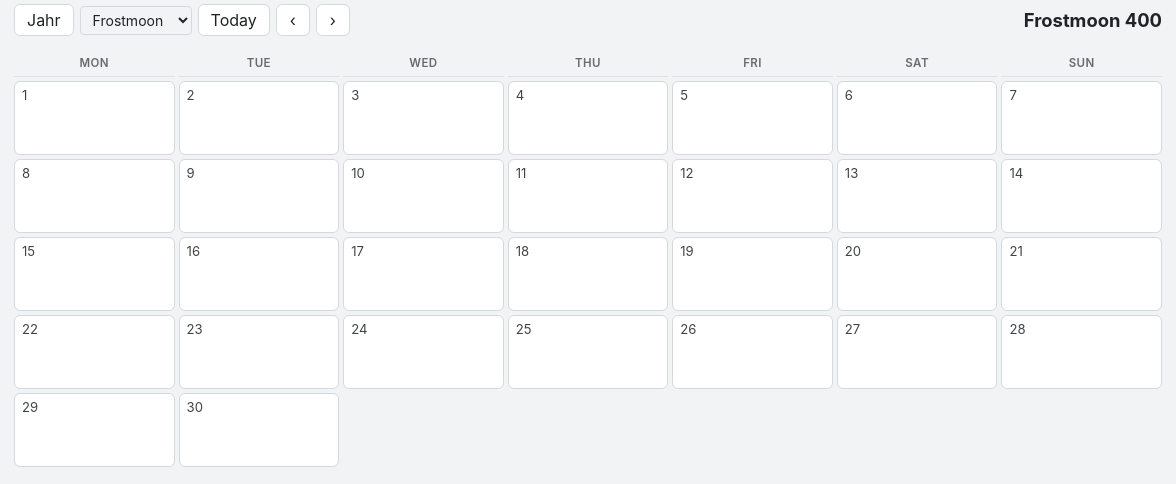
Test: M14-S02 month dropdown & header order/layout › "<" / ">" remain month-step and roll over year boundaries (existing step()) › clicking "<" on the first month of the year rolls back into the previous year
This screenshot has width=1176, height=484.
Click the button named "< previous" at (293, 20), box [276, 4, 310, 36]
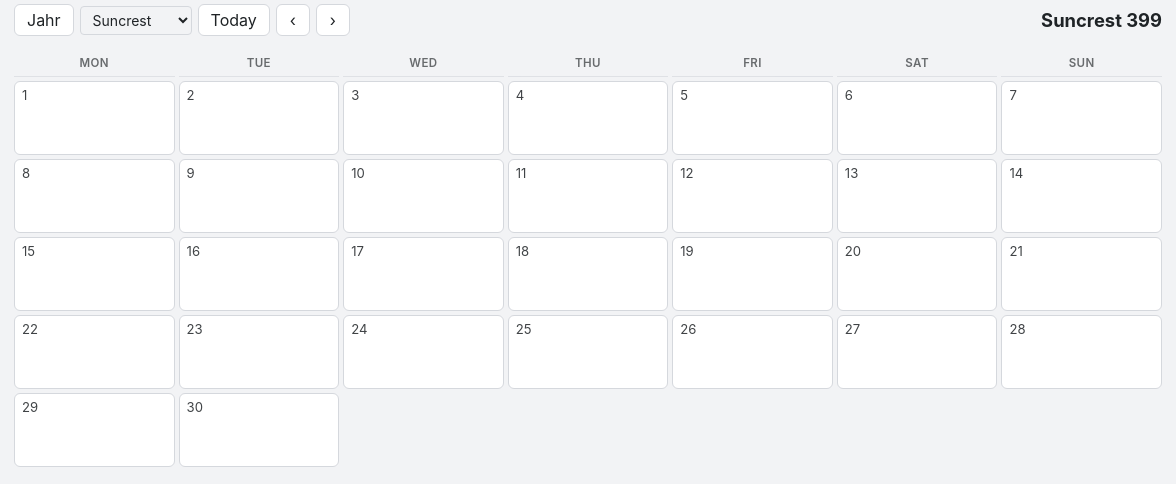
Now the heading reads "Suncrest 399", box [1041, 9, 1162, 31]
